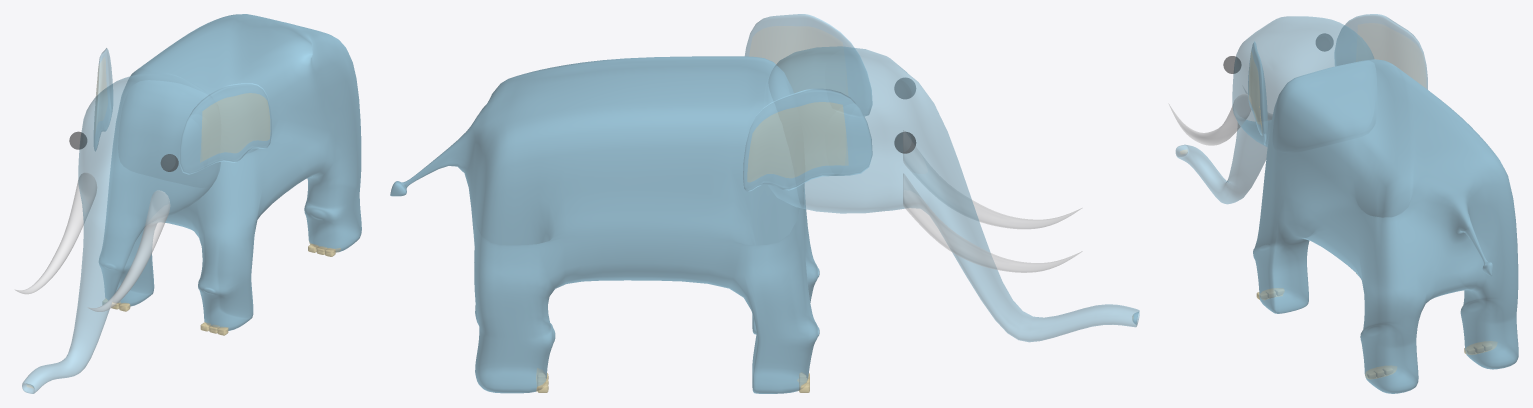
The model's file is ElephenStaff.fbx.
3 renders of one model, left to right at view 1: azimuth 30°, elevation 25°; view 2: azimuth 150°, elevation 25°; view 3: azimuth 270°, elevation 25°, orthographic. The views are drawn at different scales.
Parts seen in each view (by area): view 1: ElephenStaff; view 2: ElephenStaff; view 3: ElephenStaff.
Boxes of the visible parts, bbox=[...] form: ElephenStaff: bbox=[14, 14, 361, 393]; ElephenStaff: bbox=[390, 14, 1139, 393]; ElephenStaff: bbox=[1168, 14, 1518, 393].
Size of the model in its own units: 284 by 147 by 184.
